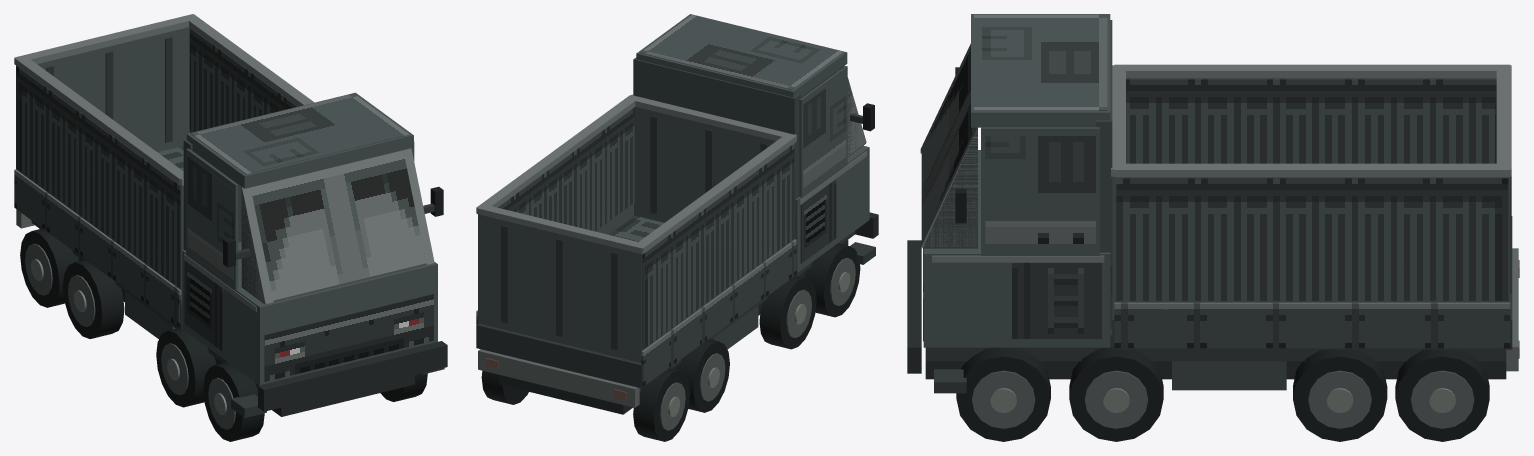
File: CMU3DAU14PropHemettTruckOpenBed.glb
The picture shows the model from 3 angles, left to right: view 1: azimuth 30°, elevation 25°; view 2: azimuth 150°, elevation 25°; view 3: azimuth 270°, elevation 25°; orthographic projection. The views are drawn at different scales.
Visible parts, largest first — view 1: vertical cargo wall ribs (×2), continuous sloped divided windscreen, cab lower body, bed end wall, roof hatches and vents, front grille and lamps, cargo skirt panel, front bumper, bed top edge rail (×2), cab side glazing, cab roof backing, sloping windshield side frame (×2) (+20 smaller); view 2: vertical cargo wall ribs (×2), bed end wall (×2), roof hatches and vents, cab rear bulkhead, cargo skirt panel, bed top edge rail (×2), cargo deck structure, end top edge rail (×2), cab side glazing, rear bumper, end panel rib (×5), cab lower body (+20 smaller); view 3: vertical cargo wall ribs (×2), cargo skirt panel, roof hatches and vents, cab side glazing, bed top edge rail (×2), cab lower body, door vents and marker, long chassis beam, continuous sloped divided windscreen, tire 2 1, tire 3 1, tire 4 1 (+19 smaller).
Boxes of the visible parts, x1=… form: vertical cargo wall ribs (×2): x1=16, y1=28, x2=297, y2=287; continuous sloped divided windscreen: x1=250, y1=150, x2=425, y2=300; cab lower body: x1=182, y1=242, x2=437, y2=385; bed end wall: x1=37, y1=27, x2=189, y2=151; roof hatches and vents: x1=191, y1=93, x2=409, y2=174; front grille and lamps: x1=264, y1=294, x2=433, y2=381; cargo skirt panel: x1=14, y1=169, x2=181, y2=327; front bumper: x1=258, y1=341, x2=447, y2=411; bed top edge rail (×2): x1=14, y1=14, x2=314, y2=184; cab side glazing: x1=187, y1=157, x2=233, y2=279; cab roof backing: x1=186, y1=92, x2=413, y2=188; sloping windshield side frame (×2): x1=241, y1=148, x2=434, y2=303; vertical cargo wall ribs (×2): x1=498, y1=107, x2=794, y2=349; bed end wall (×2): x1=484, y1=106, x2=775, y2=361; roof hatches and vents: x1=640, y1=15, x2=842, y2=89; cab rear bulkhead: x1=633, y1=57, x2=800, y2=210; cargo skirt panel: x1=641, y1=239, x2=796, y2=386; bed top edge rail (×2): x1=476, y1=95, x2=796, y2=253; cargo deck structure: x1=476, y1=215, x2=796, y2=388; end top edge rail (×2): x1=476, y1=94, x2=796, y2=253; cab side glazing: x1=803, y1=73, x2=846, y2=187; rear bumper: x1=478, y1=349, x2=639, y2=407; end panel rib (×5): x1=501, y1=116, x2=712, y2=350; cab lower body: x1=795, y1=145, x2=869, y2=272; vertical cargo wall ribs (×2): x1=1116, y1=79, x2=1508, y2=300; cargo skirt panel: x1=1114, y1=302, x2=1510, y2=348; roof hatches and vents: x1=974, y1=14, x2=1107, y2=110; cab side glazing: x1=985, y1=136, x2=1095, y2=243; bed top edge rail (×2): x1=1114, y1=64, x2=1510, y2=177; cab lower body: x1=923, y1=150, x2=1110, y2=347; door vents and marker: x1=1012, y1=262, x2=1101, y2=338; long chassis beam: x1=925, y1=329, x2=1506, y2=361; continuous sloped divided windscreen: x1=921, y1=48, x2=974, y2=240; tire 2 1: x1=1069, y1=346, x2=1163, y2=441; tire 3 1: x1=1293, y1=349, x2=1387, y2=441; tire 4 1: x1=1395, y1=349, x2=1489, y2=441.
Bounding box in the file's own units: 1.46 × 1.75 × 2.99.
22 materials, 12 textured.
